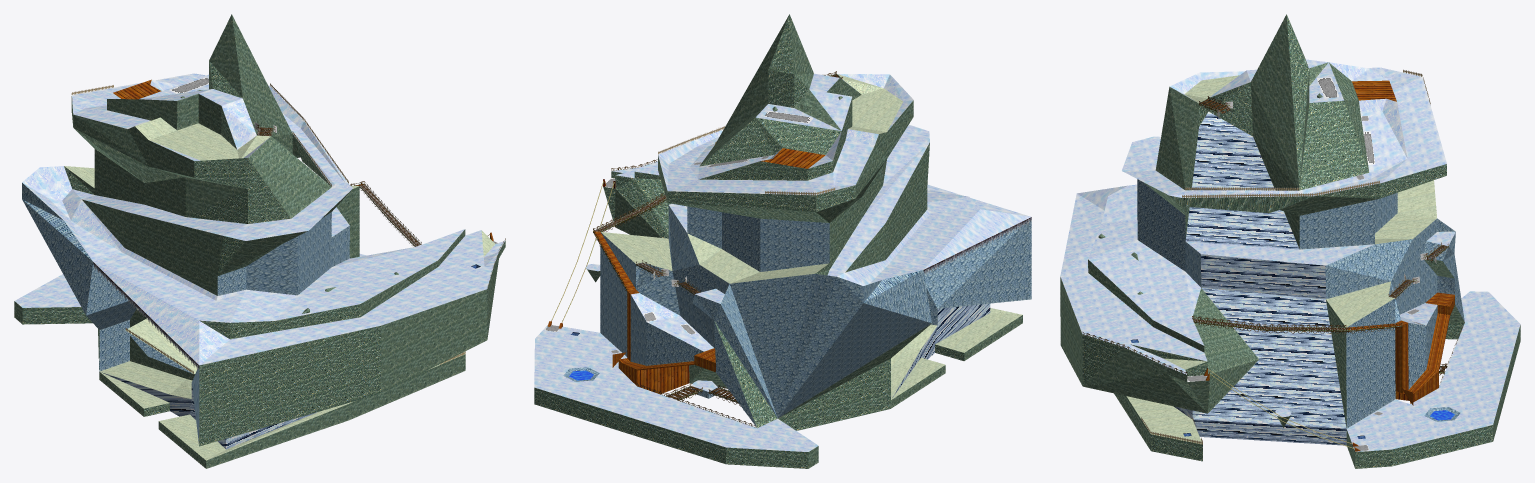
Rendered from coocoolmountain.obj.
3 views of the same model, side by side, from view 1: azimuth 30°, elevation 25°; view 2: azimuth 150°, elevation 25°; view 3: azimuth 270°, elevation 25° (orthographic).
Bounding box in the file's own units: 59.46 × 53.96 × 63.37.
25 materials, 25 textured.
